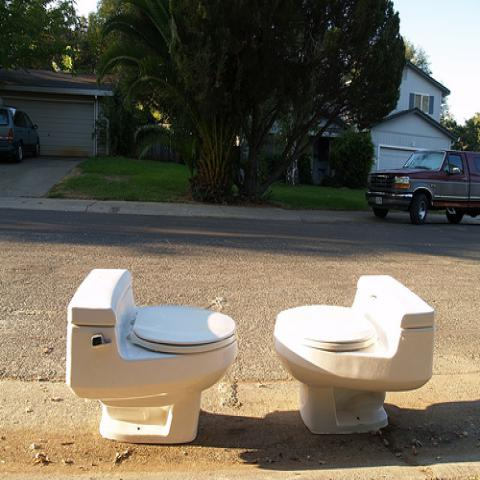car: (0, 107, 43, 169)
truck: (367, 149, 480, 222)
